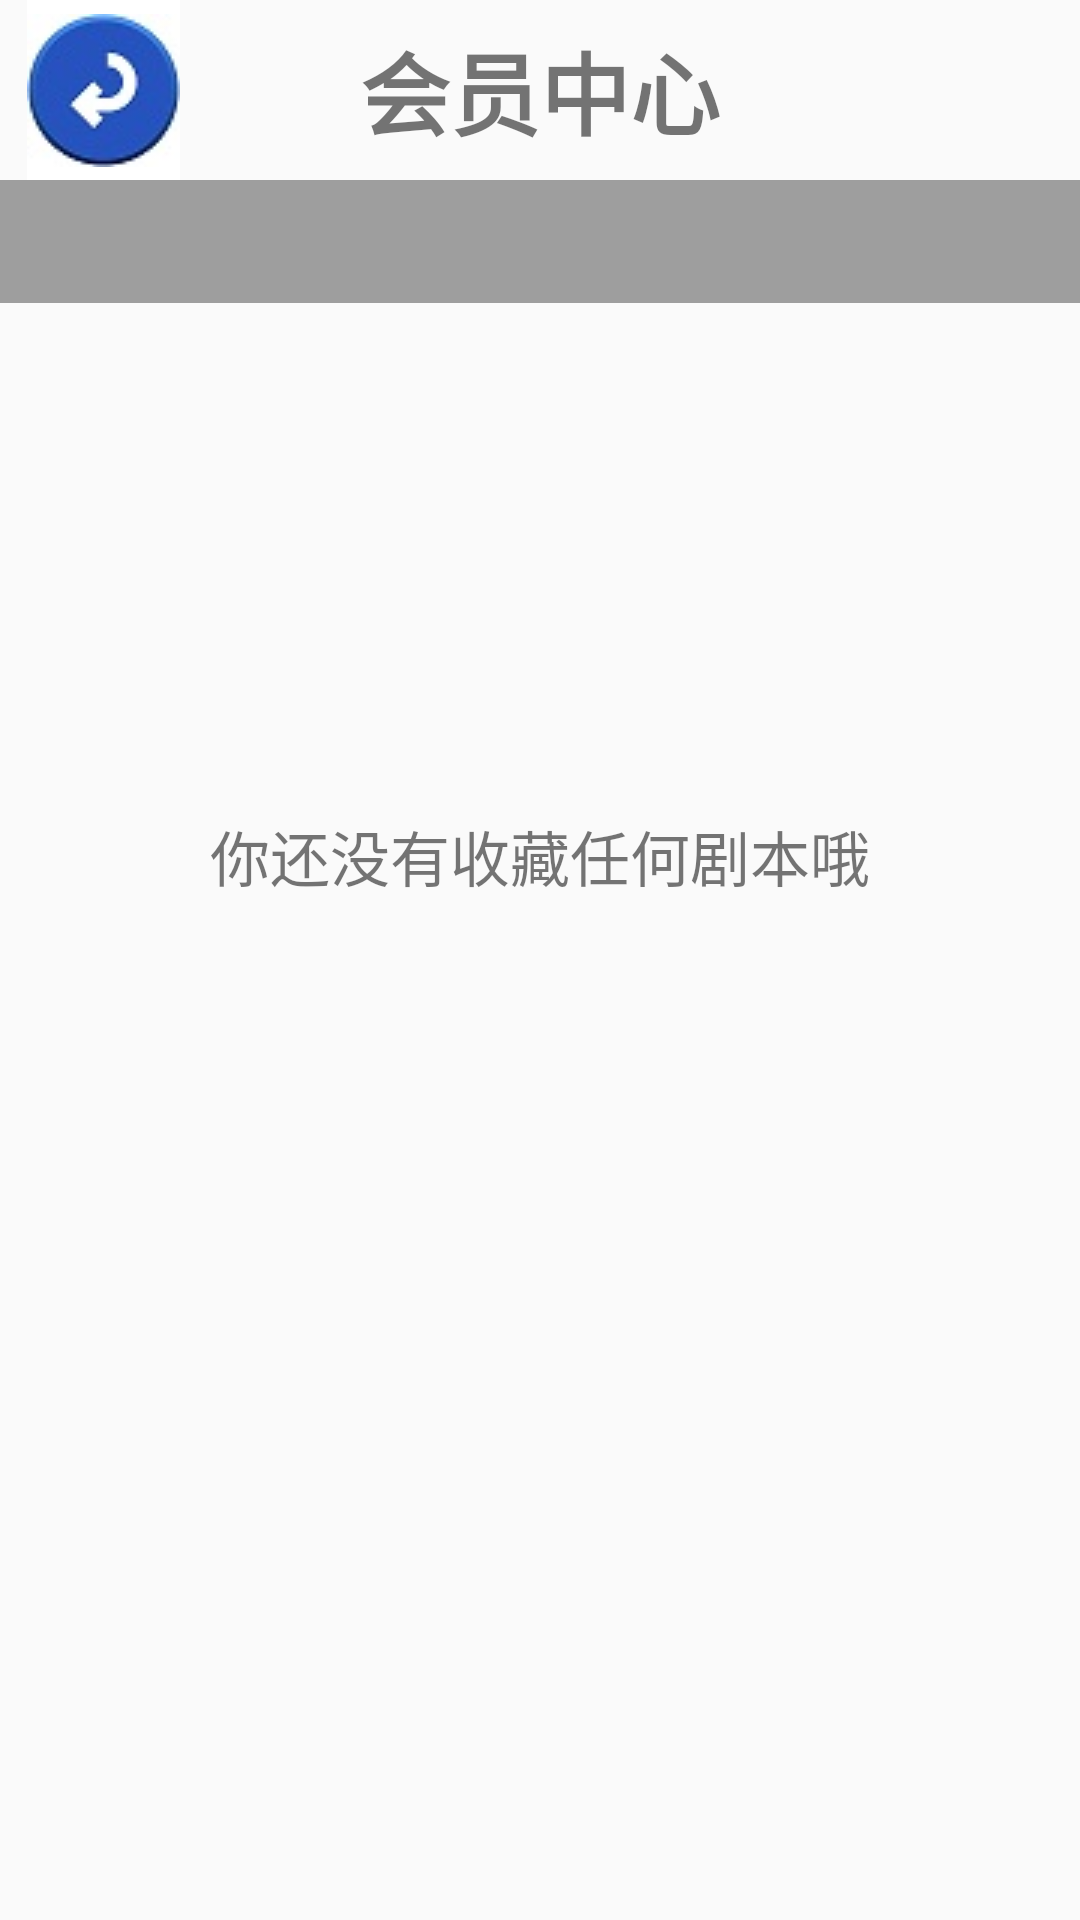

Icons on this 1080×1920 Android screen, each with the point to tap as (x,y):
fanhui: (103,90)
